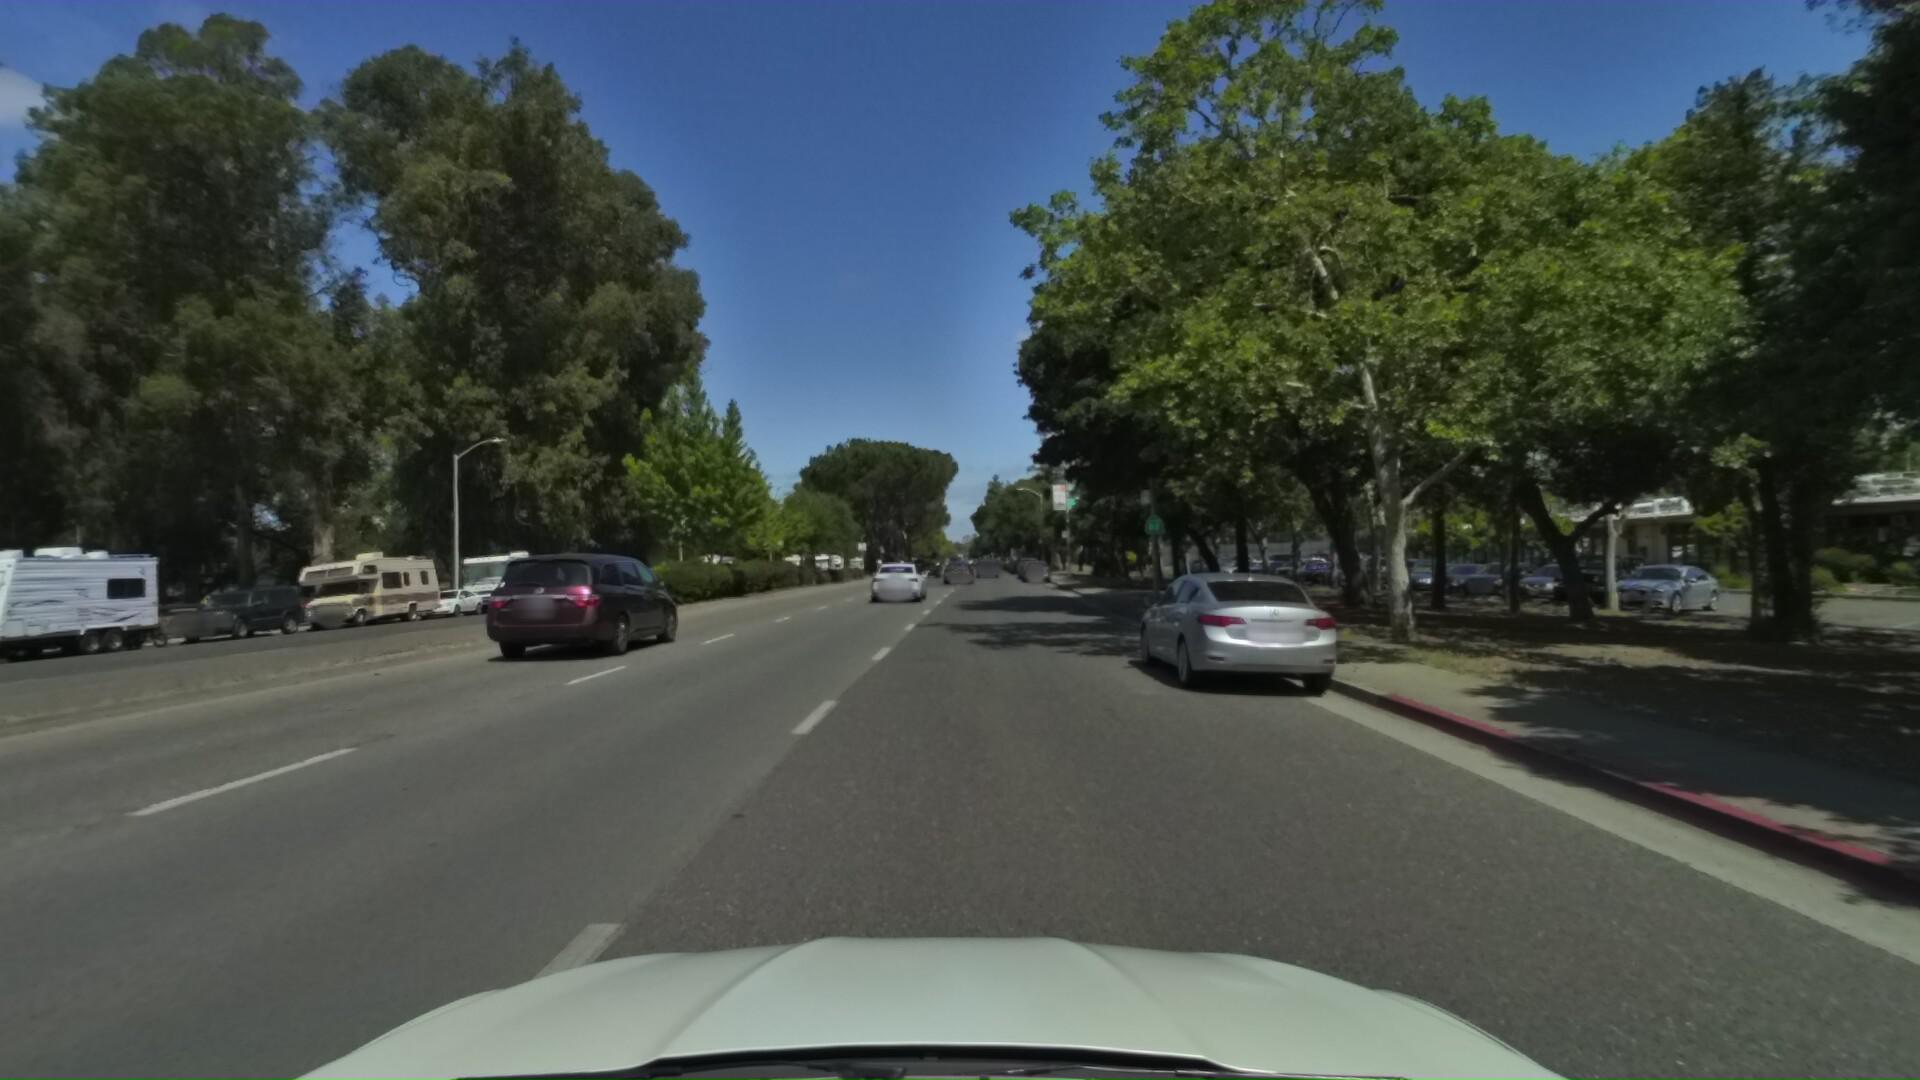car: (1131, 556, 1375, 705), (475, 543, 688, 678), (156, 576, 307, 642), (868, 555, 930, 608), (405, 579, 487, 615), (942, 556, 980, 591), (1022, 550, 1054, 575), (915, 553, 942, 579), (975, 546, 1000, 572)
other_vehicle: (281, 538, 444, 632), (448, 538, 570, 615)
